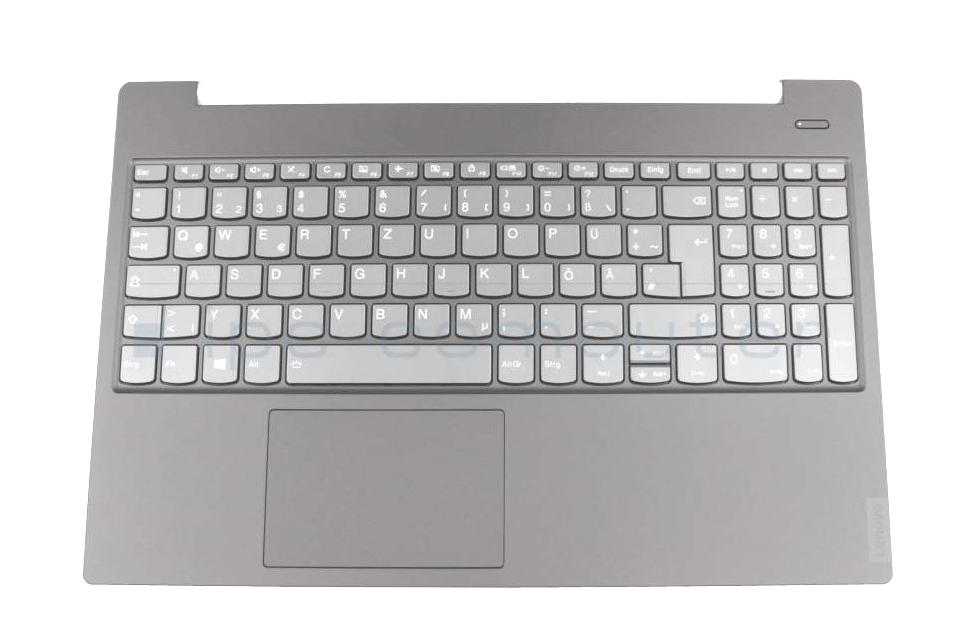0: (536, 182, 573, 215)
1: (169, 184, 205, 218)
2: (209, 184, 246, 217)
3: (249, 183, 286, 217)
4: (290, 183, 326, 217)
5: (331, 183, 367, 216)
6: (372, 182, 408, 216)
7: (413, 182, 449, 216)
8: (454, 182, 491, 216)
9: (495, 182, 533, 215)
a: (183, 261, 219, 297)
accent: (619, 182, 655, 216)
ae: (598, 260, 636, 296)
alt-left: (241, 341, 279, 383)
altgr-right: (495, 341, 533, 383)
b: (368, 300, 407, 337)
c: (285, 301, 323, 337)
caret: (129, 185, 164, 218)
comma: (495, 300, 533, 336)
d: (265, 261, 302, 297)
del: (660, 182, 711, 216)
e: (252, 221, 289, 256)
enter: (667, 220, 713, 296)
f: (306, 261, 343, 296)
g: (347, 261, 385, 296)
h: (389, 261, 427, 296)
hash: (640, 260, 678, 296)
i: (459, 221, 496, 255)
j: (431, 260, 468, 296)
k: (473, 260, 511, 296)
keyboard: (104, 150, 869, 396)
l: (515, 260, 552, 296)
less: (160, 301, 199, 336)
m: (452, 300, 491, 337)
minus: (578, 301, 622, 336)
n: (411, 301, 449, 336)
o: (500, 221, 537, 256)
oe: (556, 260, 594, 296)
p: (542, 221, 578, 255)
plus: (624, 221, 661, 255)
point: (536, 300, 575, 336)
q: (171, 222, 207, 257)
r: (293, 222, 330, 256)
s: (224, 261, 261, 297)
shift-left: (120, 301, 159, 336)
shift-lock: (123, 261, 179, 297)
shift-right: (626, 300, 716, 336)
space: (282, 341, 492, 384)
ss: (577, 182, 614, 216)
strg-left: (119, 343, 157, 385)
strg-right: (539, 343, 577, 385)
t: (335, 222, 371, 256)
tab: (126, 223, 166, 257)
u: (417, 221, 455, 256)
ue: (582, 221, 620, 256)
v: (327, 300, 365, 336)
w: (211, 222, 248, 256)
x: (244, 301, 281, 337)
y: (202, 301, 240, 336)
z: (376, 221, 413, 256)
